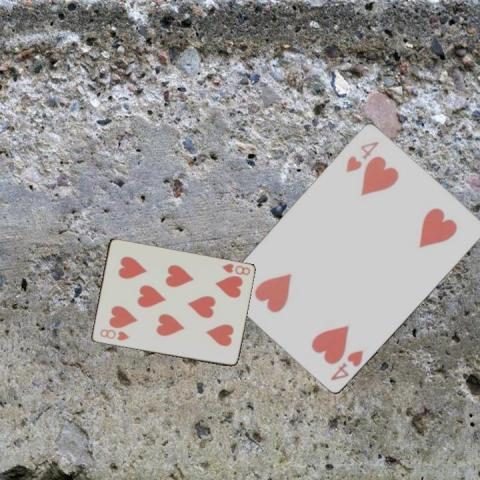4h: (342, 137, 380, 174), (327, 347, 365, 382)
8h: (96, 326, 130, 342), (220, 260, 252, 276)
